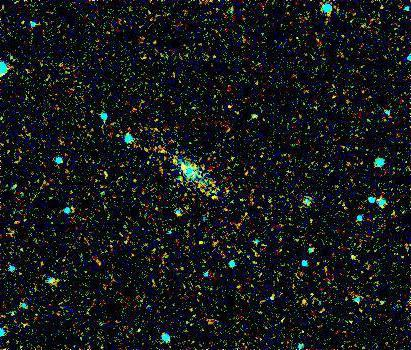star: (199, 180, 229, 210)
